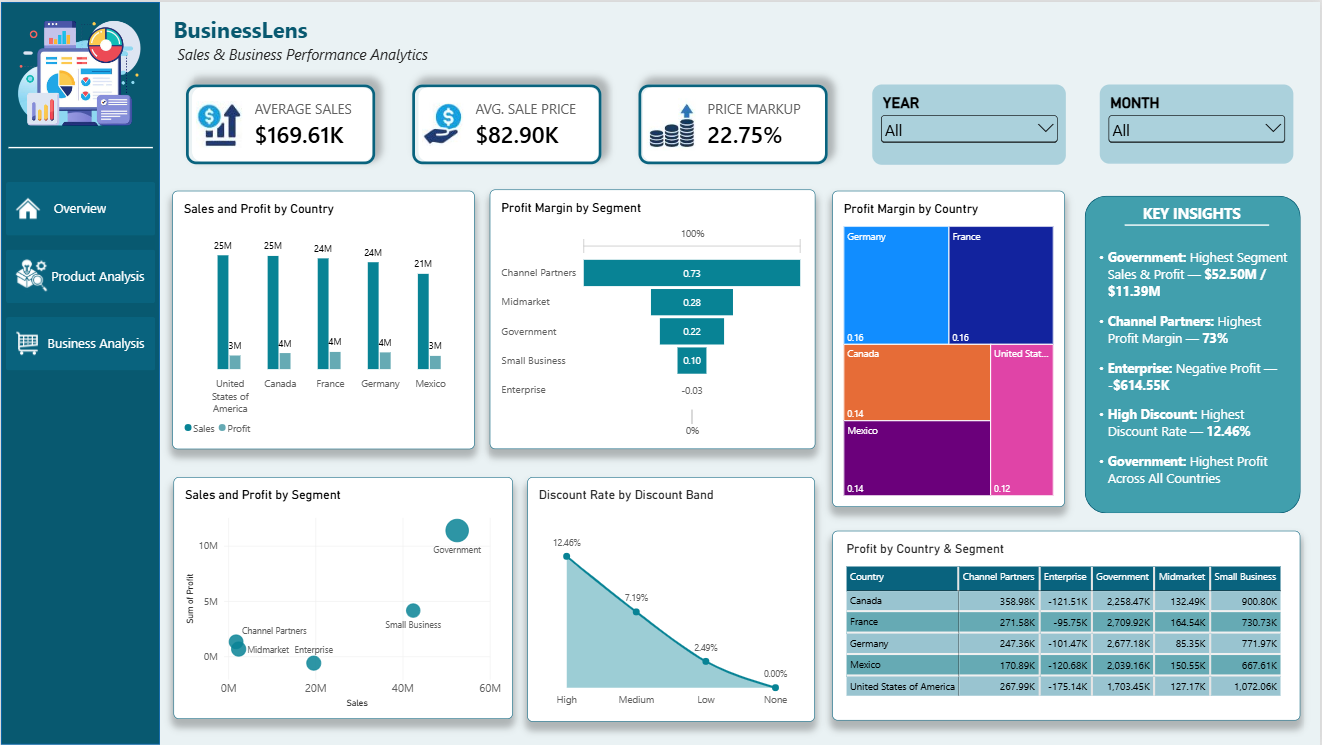

Layout of this report page (visuals, bound fields, positions):
{"tool":"powerbi","page":{"name":"Business Analysis","canvas":[1920,1080],"ordinal":2},"visuals":[{"type":"shape","box":[0,0,231,1080],"z":0},{"type":"image","box":[21.2,18.8,185,167.5],"z":1000},{"type":"textbox","box":[712,364,422.5,73.8],"z":2000},{"type":"textbox","box":[250,18,400,84],"z":3000},{"type":"actionButton","box":[6.8,262.1,217,78],"z":4000},{"type":"actionButton","box":[6.8,360.5,217,78],"z":5000},{"type":"actionButton","box":[6.8,457.9,217,78],"z":6000},{"type":"cardVisual","fields":{"Data":["Sum(cleaned_dataset.Sale Price)"]},"box":[597.8,120,275,116],"z":7000},{"type":"cardVisual","fields":{"Data":["cleaned_dataset.Price Markup %"]},"box":[926.7,120,275,116],"z":8000},{"type":"slicer","fields":{"Values":["cleaned_dataset.Month Name"]},"box":[1598.3,120,281.7,115],"z":9000},{"type":"scatterChart","title":"Sales and Profit by Segment","fields":{"Category":["cleaned_dataset.Segment"],"Size":["Sum(cleaned_dataset.Units Sold)"],"X":["Sum(cleaned_dataset.Sales)"],"Y":["Sum(cleaned_dataset.Profit)"]},"box":[250,690,493.3,352.2],"z":10000},{"type":"funnel","title":"Profit Margin by Segment","fields":{"Category":["cleaned_dataset.Segment"],"Y":["cleaned_dataset.Profit Margin"]},"box":[711.2,272.5,473.8,377.5],"z":11000},{"type":"slicer","fields":{"Values":["cleaned_dataset.Year"]},"box":[1266.7,120,281.7,116.7],"z":12000},{"type":"shape","box":[1575.5,281.6,314,462],"z":13000},{"type":"textbox","box":[1581,292.6,300,450.9],"z":14000},{"type":"shape","box":[1634,298,210,52.6],"z":15000},{"type":"clusteredColumnChart","title":"Sales and Profit by Country","fields":{"Category":["cleaned_dataset.Country"],"Y":["Sum(cleaned_dataset.Sales)","Sum(cleaned_dataset.Profit)"]},"box":[248.8,273.8,440,376.2],"z":16000},{"type":"cardVisual","fields":{"Data":["Avg(cleaned_dataset.Sales)"]},"box":[269.1,119.1,275,116],"z":17000},{"type":"lineChart","title":"Discount Rate by Discount Band","fields":{"Category":["cleaned_dataset.Discount Band"],"Y":["cleaned_dataset.Discount Rate"]},"box":[766.2,690,418.8,356.2],"z":18000},{"type":"treemap","title":"Profit Margin by Country","fields":{"Group":["cleaned_dataset.Country"],"Values":["cleaned_dataset.Profit Margin"]},"box":[1209.2,274.2,338.7,460.1],"z":19000},{"type":"pivotTable","title":"Profit by Country & Segment","fields":{"Columns":["cleaned_dataset.Segment"],"Rows":["cleaned_dataset.Country"],"Values":["Sum(cleaned_dataset.Profit)"]},"box":[1209.2,769.3,681,276.1],"z":20000},{"type":"shape","box":[10,186.3,210,52.6],"z":21000}]}

Visuals, with their boxes in screenshot pixels (x1, y1, x2, y2), scaled from the page's 1920x1080 canvas onto the 1322x745 screenshot:
shape: <region>0, 0, 159, 744</region>
image: <region>15, 13, 142, 129</region>
textbox: <region>490, 251, 781, 302</region>
textbox: <region>172, 12, 448, 70</region>
actionButton: <region>5, 181, 154, 235</region>
actionButton: <region>5, 249, 154, 302</region>
actionButton: <region>5, 316, 154, 370</region>
cardVisual - Sum(cleaned_dataset.Sale Price): <region>412, 83, 601, 163</region>
cardVisual - cleaned_dataset.Price Markup %: <region>638, 83, 827, 163</region>
slicer - cleaned_dataset.Month Name: <region>1100, 83, 1294, 162</region>
"Sales and Profit by Segment" scatterChart: <region>172, 476, 512, 719</region>
"Profit Margin by Segment" funnel: <region>490, 188, 816, 448</region>
slicer - cleaned_dataset.Year: <region>872, 83, 1066, 163</region>
shape: <region>1085, 194, 1301, 513</region>
textbox: <region>1089, 202, 1295, 513</region>
shape: <region>1125, 206, 1270, 242</region>
"Sales and Profit by Country" clusteredColumnChart: <region>171, 189, 474, 448</region>
cardVisual - Avg(cleaned_dataset.Sales): <region>185, 82, 375, 162</region>
"Discount Rate by Discount Band" lineChart: <region>528, 476, 816, 722</region>
"Profit Margin by Country" treemap: <region>833, 189, 1066, 507</region>
"Profit by Country & Segment" pivotTable: <region>833, 531, 1301, 721</region>
shape: <region>7, 129, 151, 165</region>
